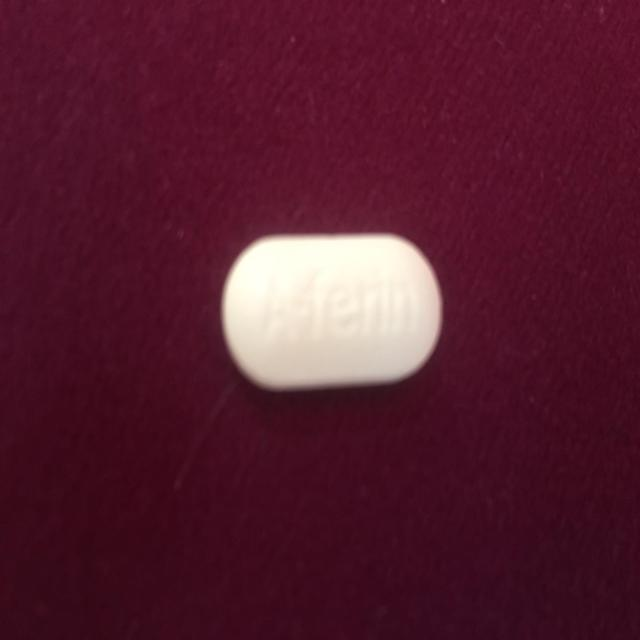pills: (202, 223, 460, 400)
